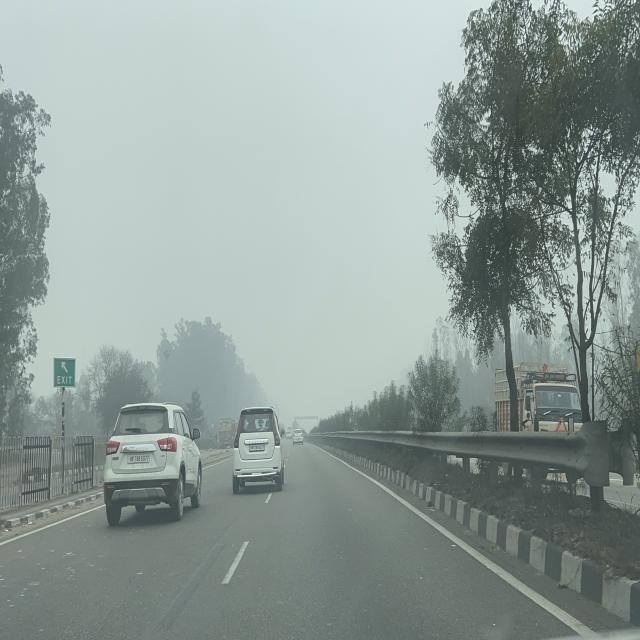GENERAL: (53, 357, 76, 388)
